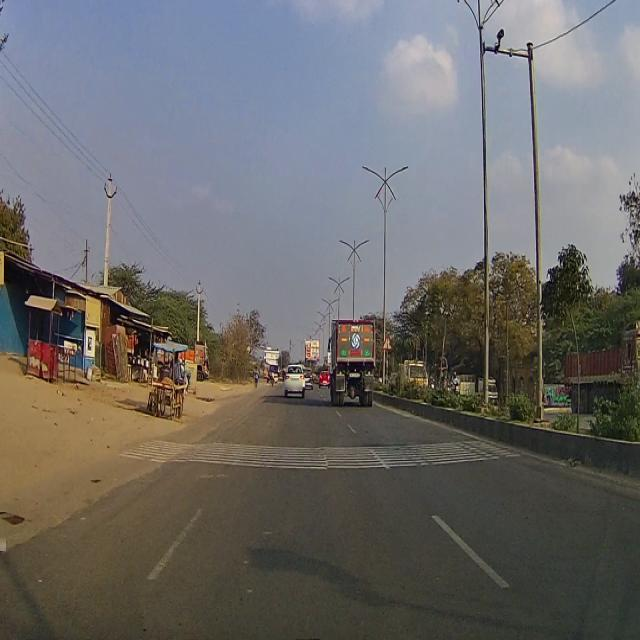gap-in-median: (382, 330, 391, 354)
